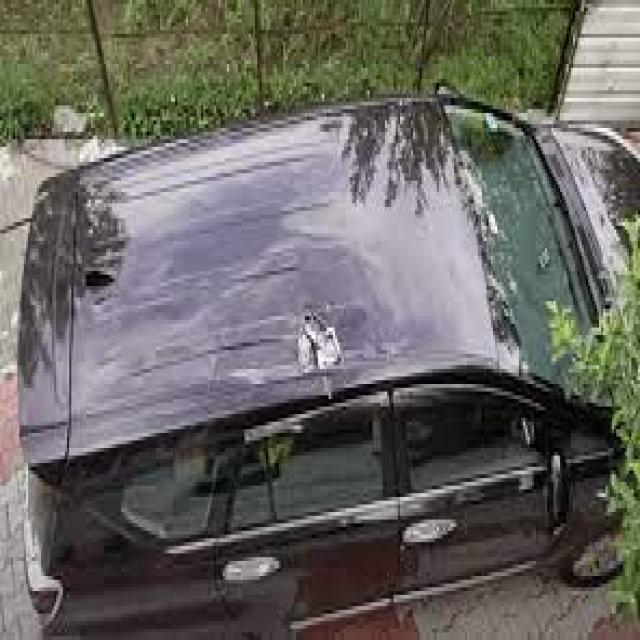roof-dent: (182, 98, 450, 493)
